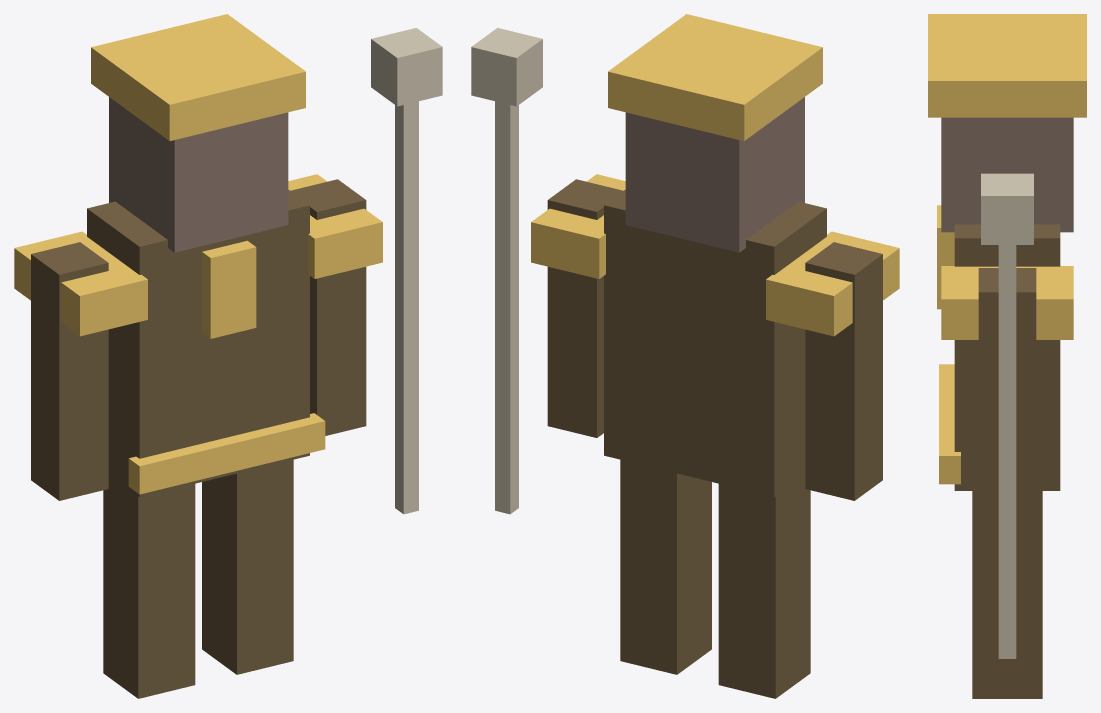
File: 15_elo_voxmere_pilgrim_under.glb
The picture shows the model from 3 angles, left to right: view 1: azimuth 30°, elevation 25°; view 2: azimuth 150°, elevation 25°; view 3: azimuth 270°, elevation 25°; orthographic projection.
Visible parts, largest first — view 1: Elo Voxmere, Pilgrim under; view 2: Elo Voxmere, Pilgrim under; view 3: Elo Voxmere, Pilgrim under.
Part boxes in pixels (x1,y1,x2,y2): Elo Voxmere, Pilgrim under: [14, 14, 442, 698]; Elo Voxmere, Pilgrim under: [471, 14, 899, 698]; Elo Voxmere, Pilgrim under: [928, 14, 1086, 698].
Bounding box in the file's own units: 1 × 1.51 × 0.3554.
